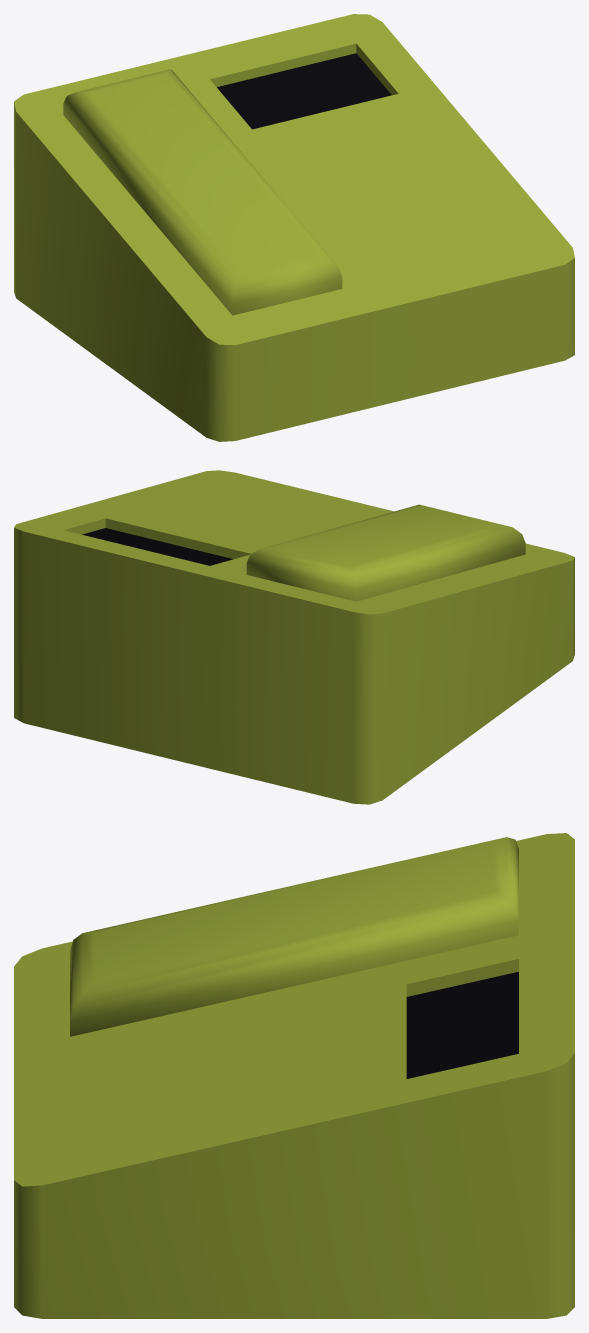
File: phone.obj
3 views of the same model, one above another, from view 1: azimuth 30°, elevation 25°; view 2: azimuth 150°, elevation 25°; view 3: azimuth 270°, elevation 25° (orthographic). The views are drawn at different scales.
Visible parts, largest first — view 1: Cube; view 2: Cube; view 3: Cube.
Part boxes in pixels (bbox=[...]): Cube: bbox=[14, 14, 574, 441]; Cube: bbox=[14, 470, 574, 804]; Cube: bbox=[14, 833, 574, 1318].
Bounding box in the file's own units: 0.2 × 0.1078 × 0.2.
